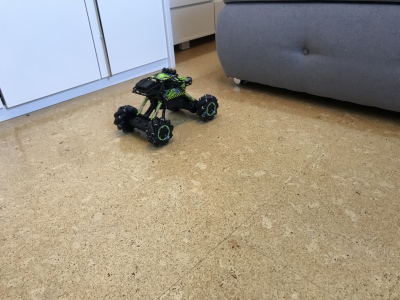remote control car: (112, 65, 220, 148)
